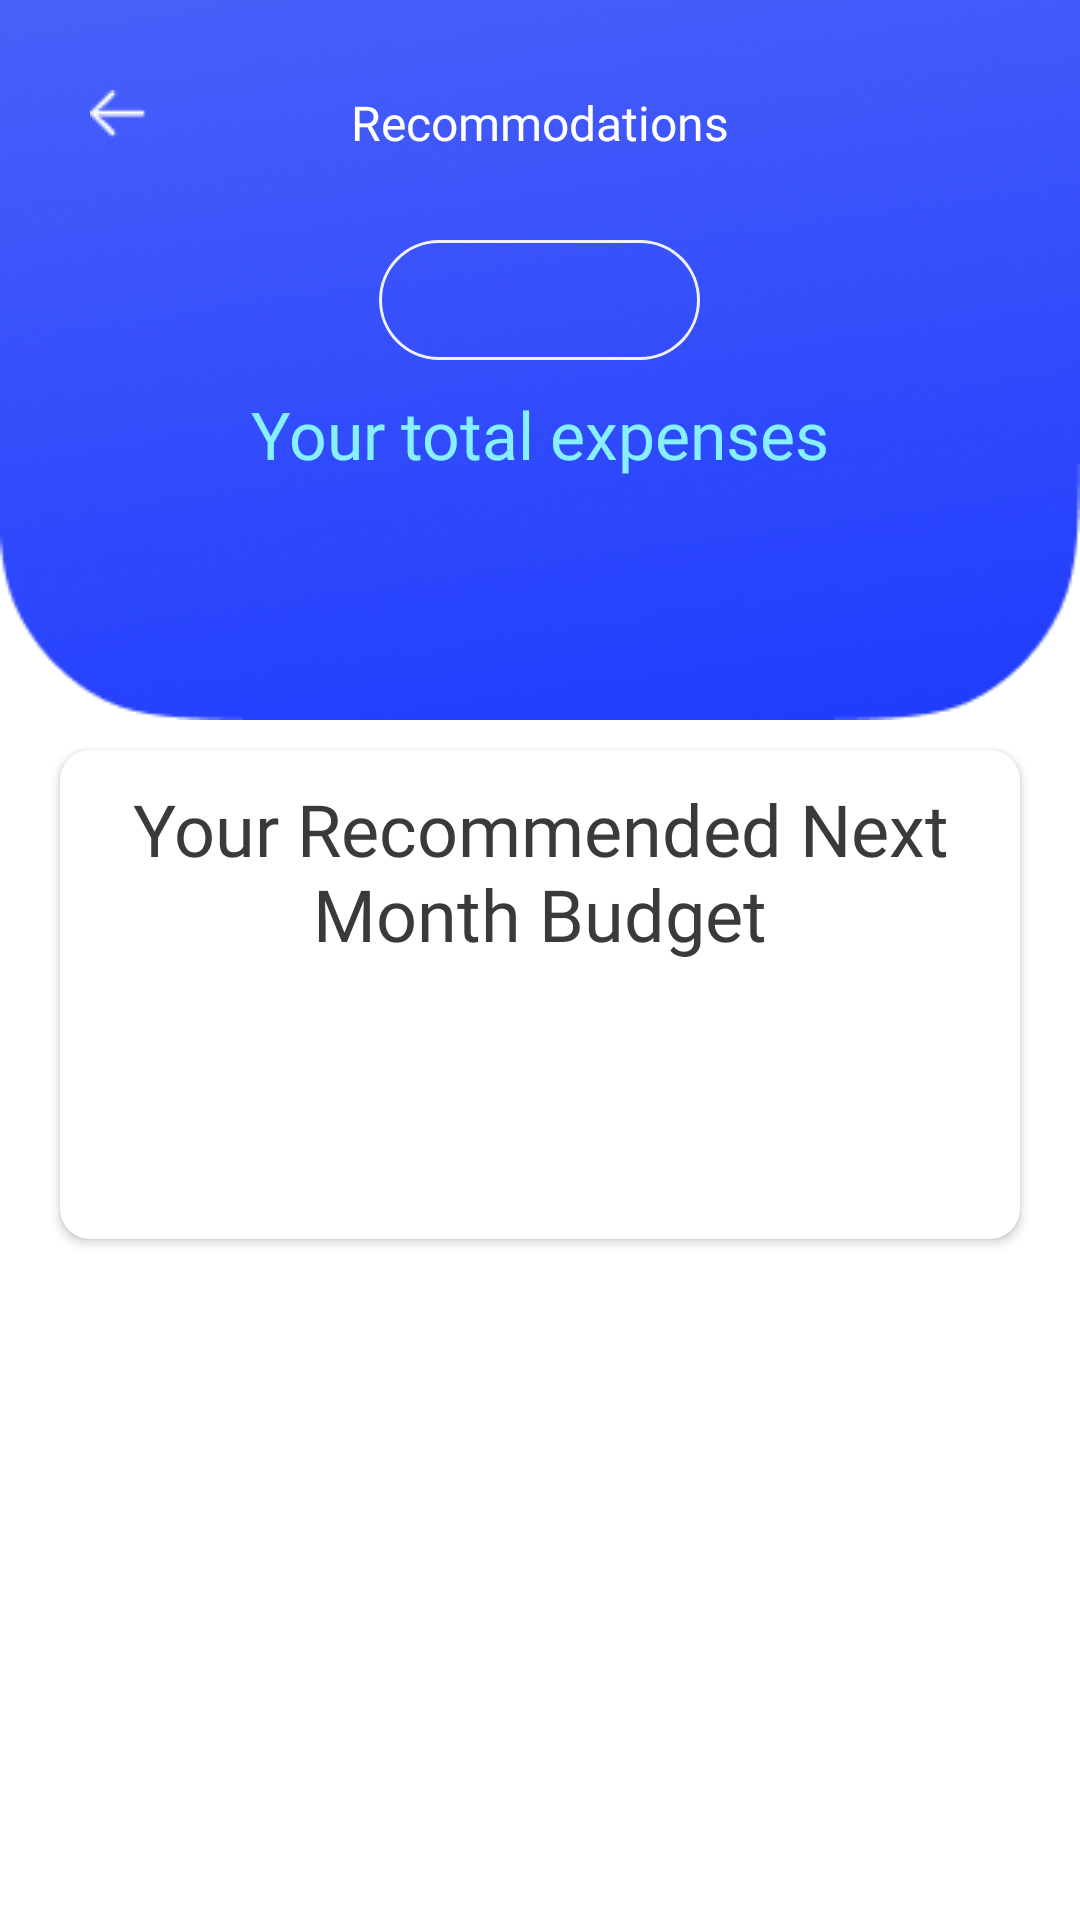

Locate icon controls on the screen. Image size 1080*1920, boxes as detection(x1, y1, x2, y2).
back: detection(90, 90, 145, 136)
